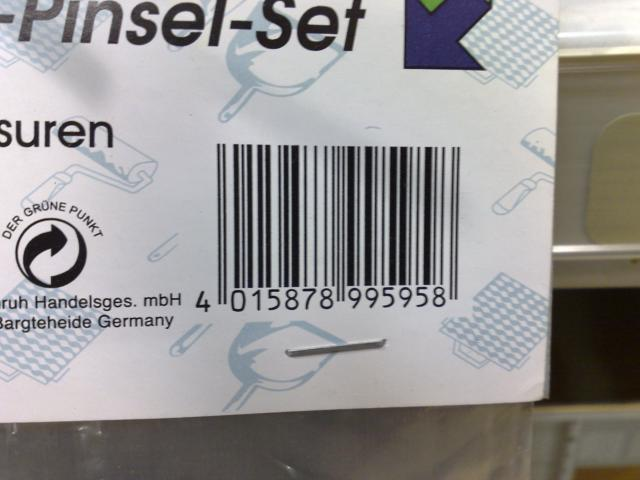Barcode: (187, 127, 474, 317)
